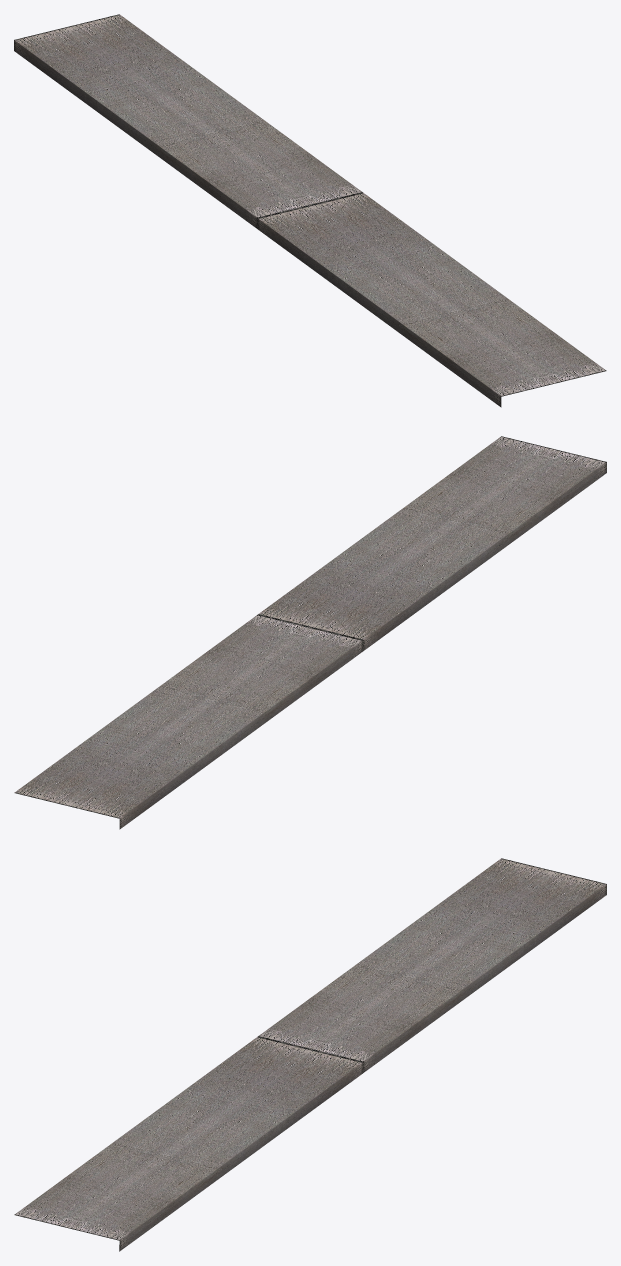
File: M10_Zone1_BarrierGap.glb
The picture shows the model from 3 angles, top to bottom: view 1: azimuth 30°, elevation 25°; view 2: azimuth 150°, elevation 25°; view 3: azimuth 330°, elevation 25°; orthographic projection.
Visible parts, largest first — view 1: M10_ZONE1_BARRIERGAP; view 2: M10_ZONE1_BARRIERGAP; view 3: M10_ZONE1_BARRIERGAP.
Boxes of the visible parts, <box> form: M10_ZONE1_BARRIERGAP: <box>14,14,606,407</box>; M10_ZONE1_BARRIERGAP: <box>14,436,606,829</box>; M10_ZONE1_BARRIERGAP: <box>14,858,606,1251</box>.
Size of the model in its own units: 1 by 0.1 by 8.
Materials: 1 (1 with a texture image).
